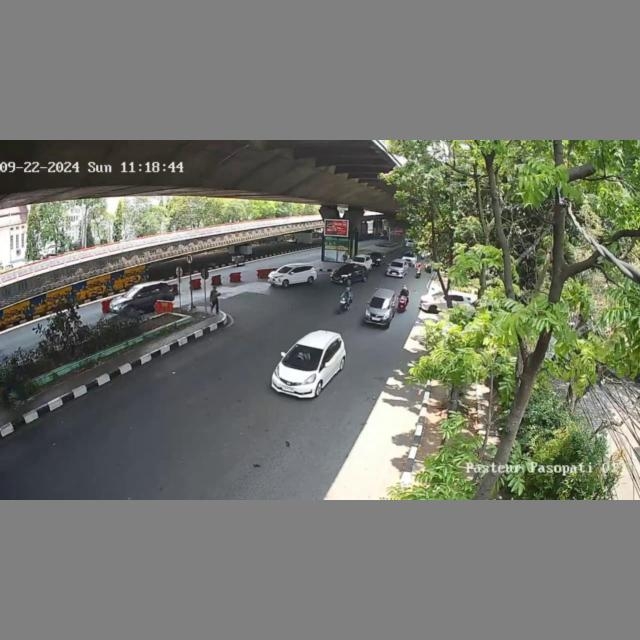windshield: (281, 341, 324, 373), (369, 297, 390, 309), (391, 262, 404, 268)
